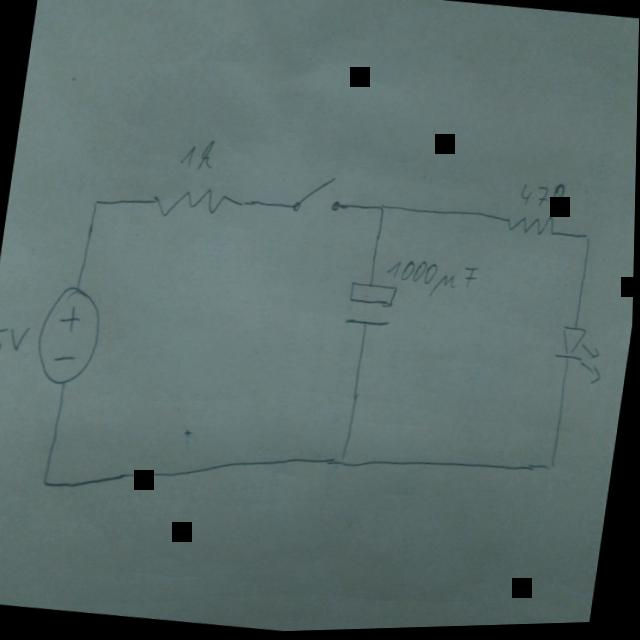capacitor: (341, 281, 401, 334)
diode: (549, 320, 611, 394)
junction: (333, 452, 356, 479), (542, 454, 563, 481), (577, 230, 597, 254), (88, 194, 107, 217), (39, 469, 58, 492), (373, 199, 391, 222)
resistor: (145, 178, 234, 229), (500, 211, 562, 244)
source: (31, 281, 111, 390)
switch: (292, 170, 346, 220)
text: (384, 255, 485, 306), (176, 135, 223, 178), (516, 179, 567, 216), (0, 320, 35, 364)
